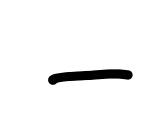minus: (49, 69, 130, 83)
